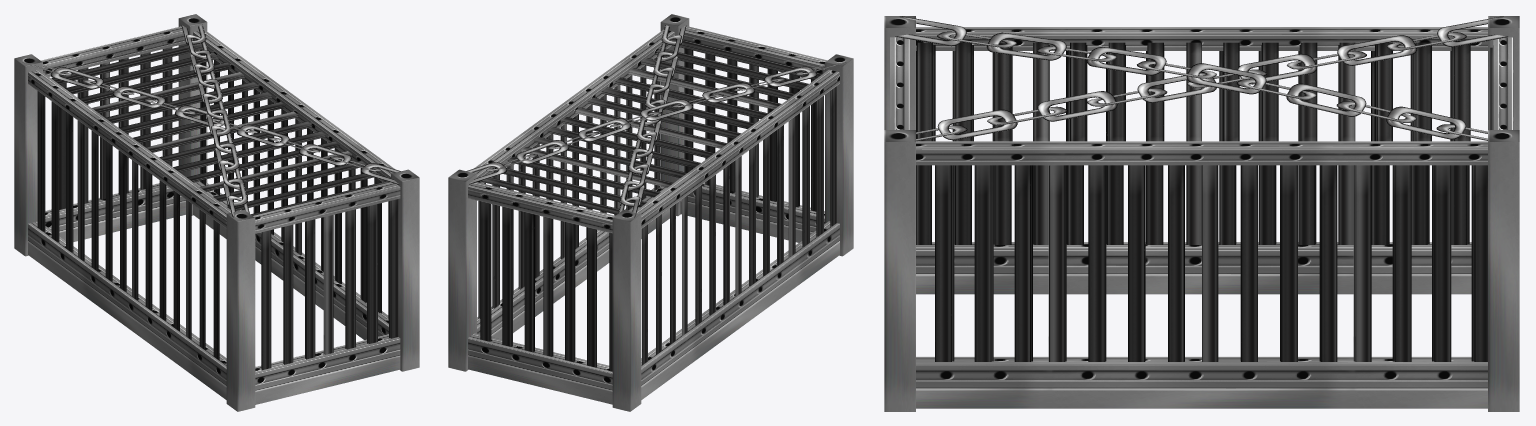
The model's file is carprison.FBX.
The picture shows the model from 3 angles, left to right: view 1: azimuth 30°, elevation 25°; view 2: azimuth 150°, elevation 25°; view 3: azimuth 270°, elevation 25°; orthographic projection. The views are drawn at different scales.
Parts seen in each view (by area): view 1: car prison; view 2: car prison; view 3: car prison.
Part boxes in pixels (x1,y1,x2,y2): car prison: [14, 14, 419, 411]; car prison: [448, 14, 853, 411]; car prison: [884, 16, 1519, 411].
Bounding box in the file's own units: 0.5277 × 0.5363 × 1.11.
